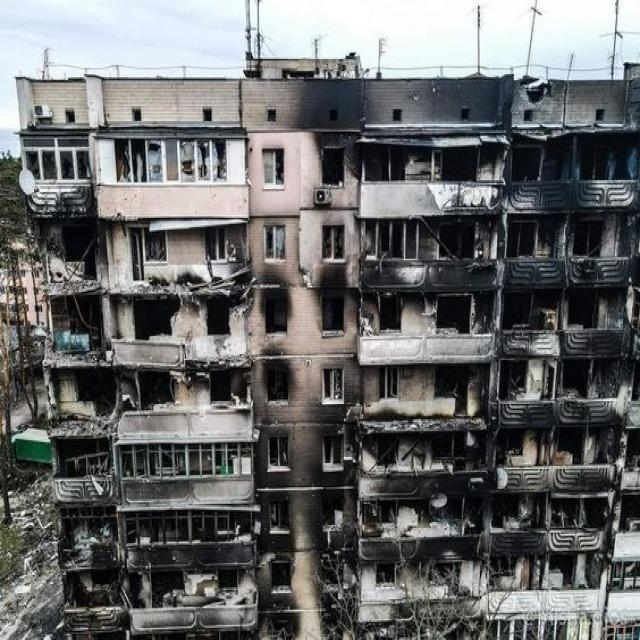building: (11, 51, 638, 638)
